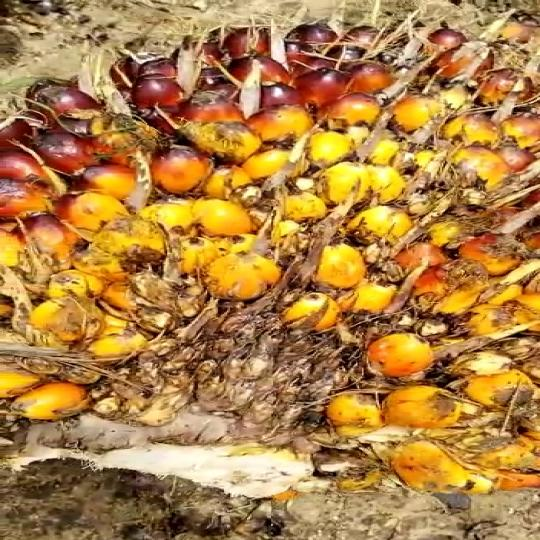masak: (0, 6, 540, 516)
